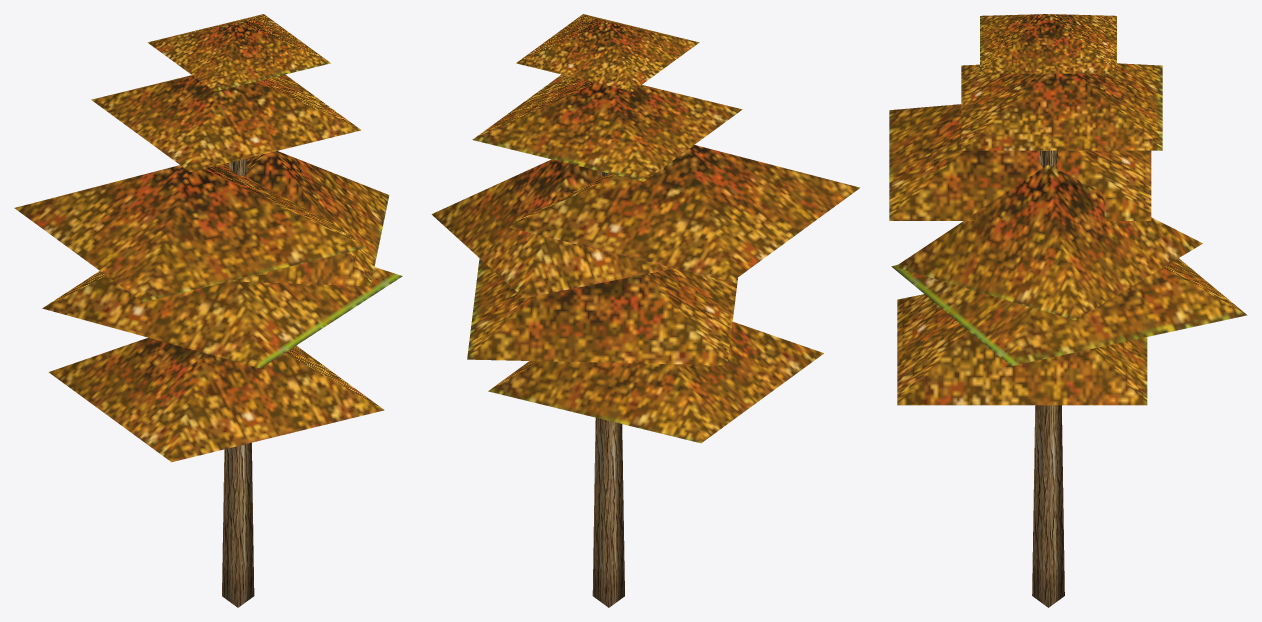
Rendered from death.glb.
3 renders of one model, left to right at view 1: azimuth 30°, elevation 25°; view 2: azimuth 150°, elevation 25°; view 3: azimuth 270°, elevation 25°, orthographic.
Parts seen in each view (by area): view 1: MeshRoot; view 2: MeshRoot; view 3: MeshRoot.
Boxes of the visible parts, <box> form: MeshRoot: <box>14,14,402,607</box>; MeshRoot: <box>431,14,859,607</box>; MeshRoot: <box>889,14,1247,607</box>.
Size of the model in its own units: 4.73 by 7.72 by 4.27.
Materials: 1 (1 with a texture image).
